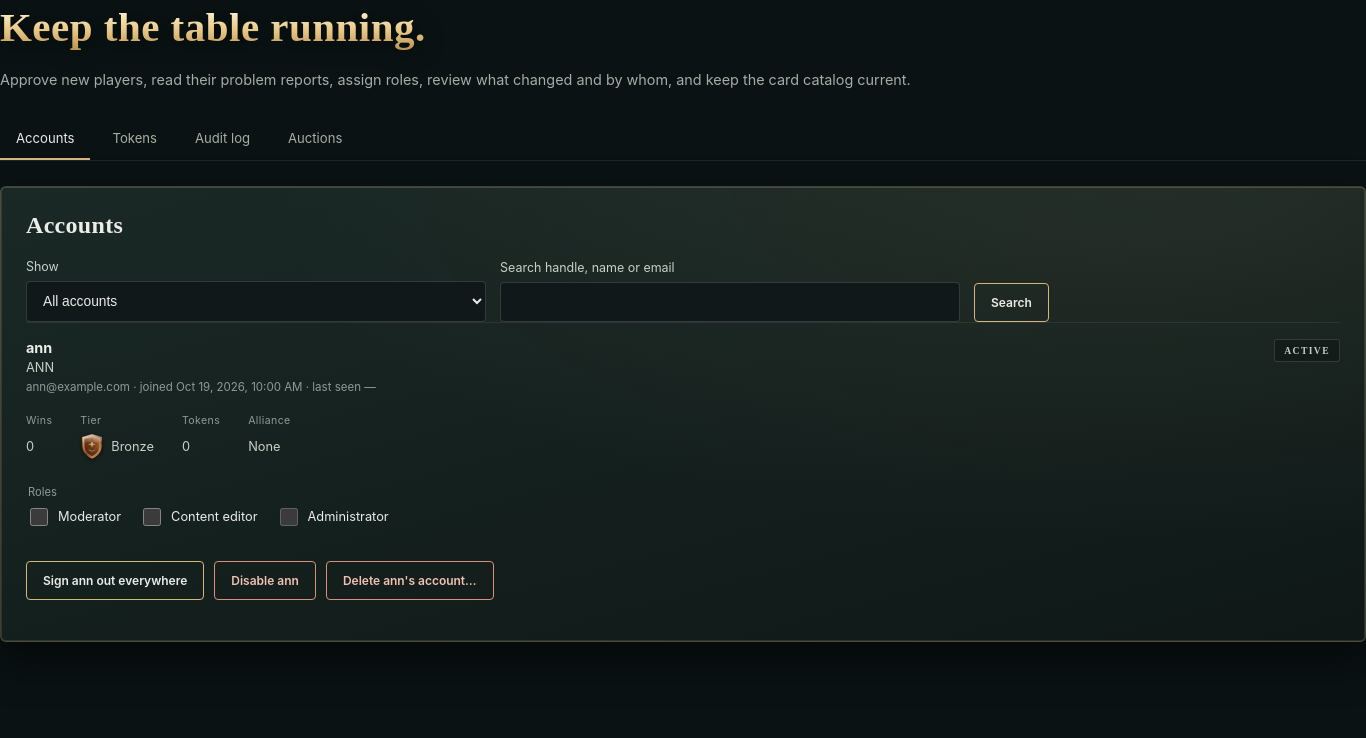
Test case: the accounts list › reloads when the same search is submitted again
expect the list item "ann" is shown: met, box [26,322,1340,616]
Step 1. Click the button "Search" → {"x": 1011, "y": 302}, box [974,282,1049,322]
(page scrolled)
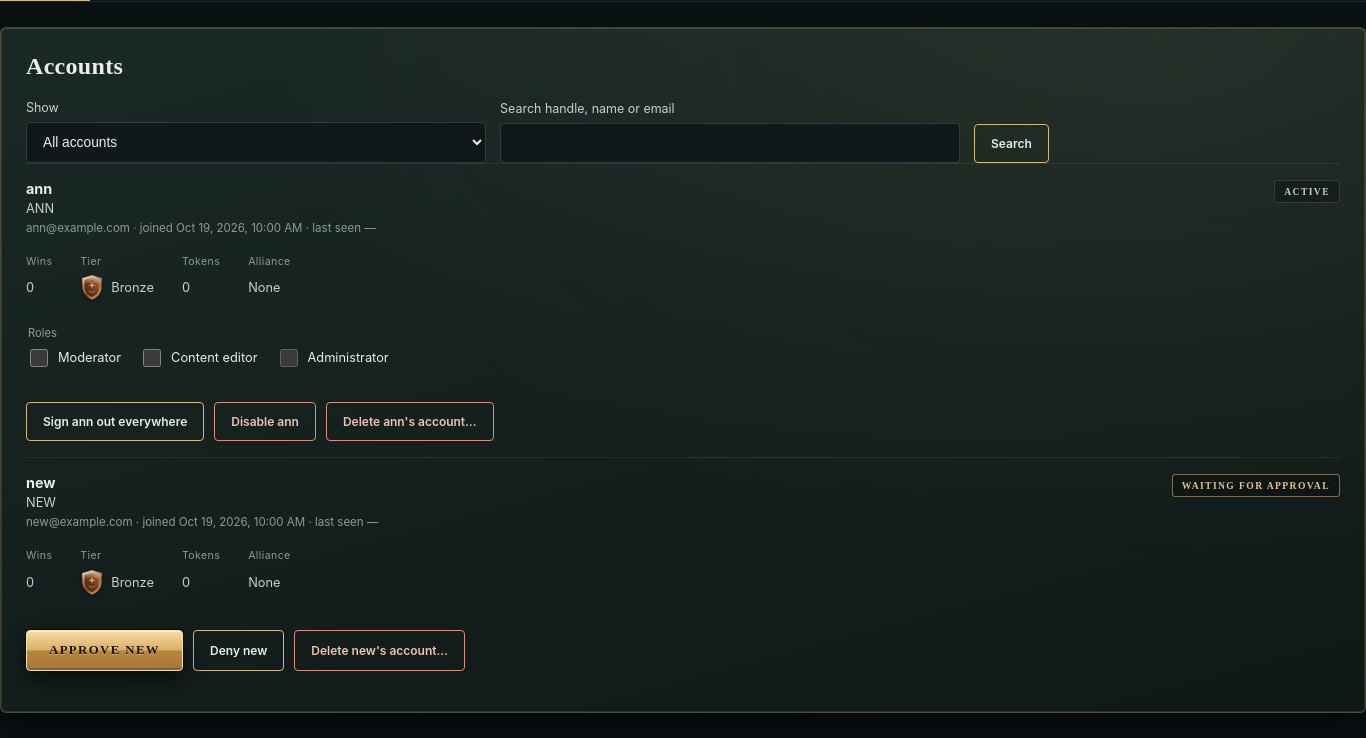
expect the list item "new" is shown: met, box [26,457,1340,687]
